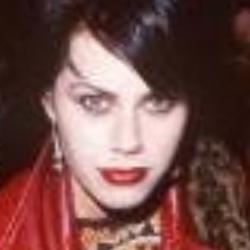face: (15, 2, 213, 213)
